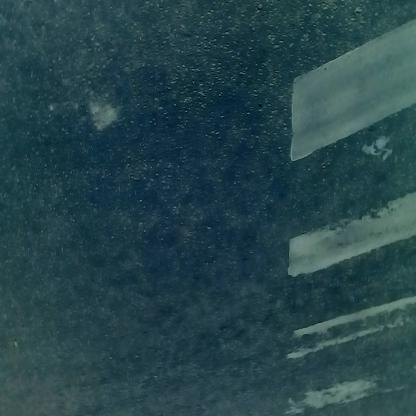crosswalk: (285, 11, 411, 402)
